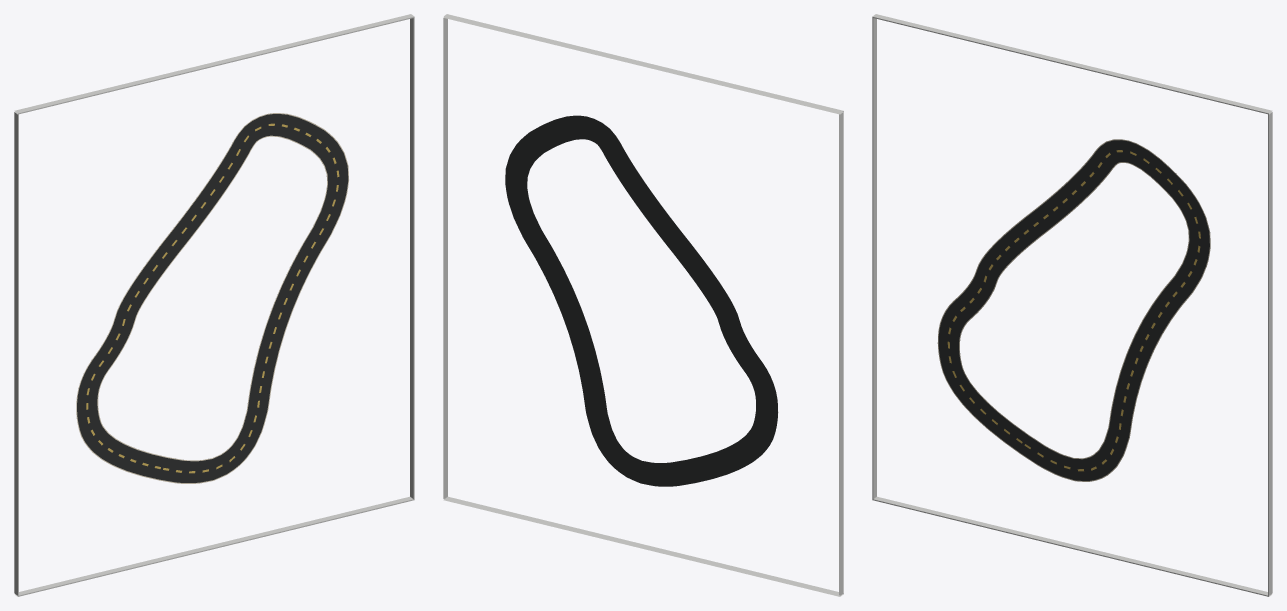
File: track.obj
3 views of the same model, side by side, from view 1: azimuth 30°, elevation 25°; view 2: azimuth 150°, elevation 25°; view 3: azimuth 330°, elevation 25° (orthographic).
Bounding box in the file's own units: 18.78 × 21.87 × 0.3.
4 materials, 4 textured.
